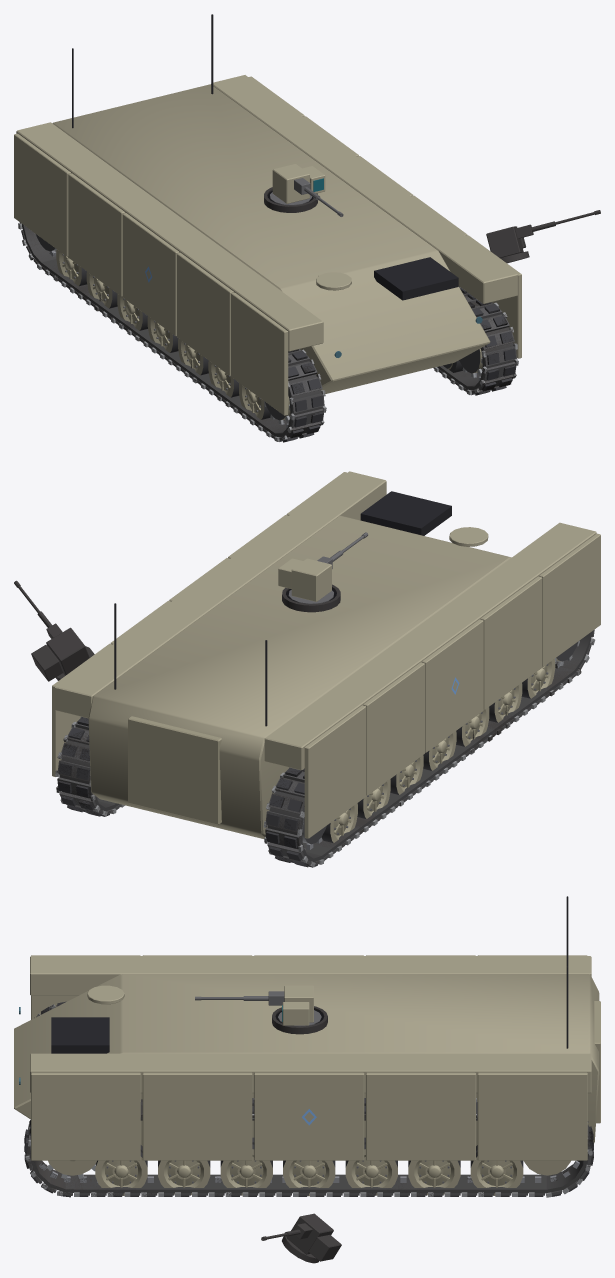
Rendered from apc__ares.glb.
3 views of the same model, one above another, from view 1: azimuth 30°, elevation 25°; view 2: azimuth 150°, elevation 25°; view 3: azimuth 270°, elevation 25° (orthographic). The views are drawn at different scales.
Parts seen in each view (by area): view 1: Hull_Mesh, Track_L_Mesh, Wreck, Track_R_Mesh, Turret_Mesh, Wheel_L1_Mesh, Wheel_L3_Mesh, Wheel_L4_Mesh, Wheel_L5_Mesh, Wheel_L0_Mesh, Wheel_L2_Mesh, Wheel_L6_Mesh; view 2: Hull_Mesh, Track_L_Mesh, Wreck, Track_R_Mesh, Turret_Mesh, Wheel_L0_Mesh, Wheel_L3_Mesh, Wheel_L4_Mesh, Wheel_L2_Mesh, Wheel_L6_Mesh, Wheel_L5_Mesh, Wheel_L1_Mesh; view 3: Hull_Mesh, Track_R_Mesh, Wreck, Wheel_R4_Mesh, Wheel_R2_Mesh, Wheel_R0_Mesh, Wheel_R6_Mesh, Wheel_R1_Mesh, Wheel_R3_Mesh, Wheel_R5_Mesh, Turret_Mesh, Sprocket_R_Mesh (+2 smaller).
Part boxes in pixels (x1,y1,x2,y2): Hull_Mesh: [14, 14, 521, 415]; Track_L_Mesh: [18, 222, 326, 442]; Wreck: [18, 187, 600, 441]; Track_R_Mesh: [433, 286, 518, 395]; Turret_Mesh: [270, 164, 325, 205]; Wheel_L1_Mesh: [86, 271, 117, 308]; Wheel_L3_Mesh: [147, 316, 178, 352]; Wheel_L4_Mesh: [178, 338, 208, 375]; Wheel_L5_Mesh: [208, 361, 239, 397]; Wheel_L0_Mesh: [56, 249, 86, 286]; Wheel_L2_Mesh: [117, 294, 147, 330]; Wheel_L6_Mesh: [239, 383, 270, 419]; Hull_Mesh: [52, 471, 600, 838]; Track_L_Mesh: [263, 630, 595, 867]; Wreck: [14, 580, 593, 866]; Track_R_Mesh: [55, 716, 124, 816]; Turret_Mesh: [278, 558, 333, 603]; Wheel_L0_Mesh: [321, 803, 357, 843]; Wheel_L3_Mesh: [423, 731, 456, 770]; Wheel_L4_Mesh: [456, 707, 489, 746]; Wheel_L2_Mesh: [390, 755, 423, 794]; Wheel_L6_Mesh: [521, 659, 555, 698]; Wheel_L5_Mesh: [489, 683, 522, 722]; Wheel_L1_Mesh: [357, 779, 390, 818]; Hull_Mesh: [14, 896, 600, 1160]; Track_R_Mesh: [24, 1098, 593, 1197]; Wreck: [25, 1003, 593, 1263]; Wheel_R4_Mesh: [220, 1137, 272, 1195]; Wheel_R2_Mesh: [345, 1137, 397, 1195]; Wheel_R0_Mesh: [470, 1145, 523, 1195]; Wheel_R6_Mesh: [95, 1145, 147, 1196]; Wheel_R1_Mesh: [408, 1160, 460, 1195]; Wheel_R3_Mesh: [283, 1160, 335, 1196]; Wheel_R5_Mesh: [158, 1160, 210, 1195]; Turret_Mesh: [278, 985, 321, 1026]; Sprocket_R_Mesh: [46, 1160, 96, 1178].
Size of what is drawn, in the model's own units: 6.53 by 2.97 by 7.51.
